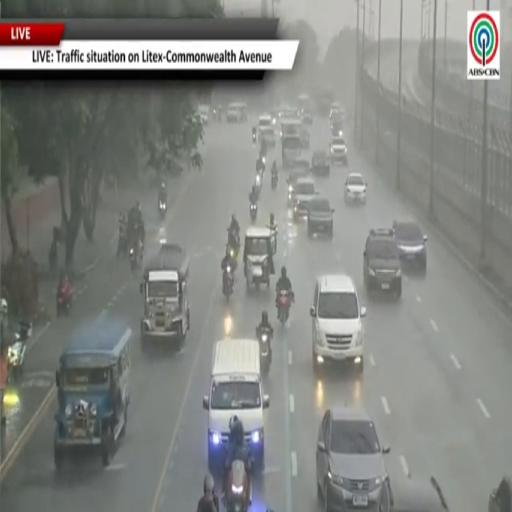car: (203, 339, 269, 469), (316, 407, 389, 511), (310, 275, 366, 372), (363, 229, 401, 298), (387, 477, 448, 511), (393, 221, 427, 270), (307, 198, 333, 239), (293, 178, 316, 221), (488, 476, 511, 511), (288, 168, 309, 206), (344, 173, 366, 203), (330, 136, 348, 165), (311, 150, 330, 175), (259, 126, 276, 148), (294, 158, 310, 173), (198, 105, 209, 125), (331, 120, 343, 136), (330, 103, 341, 120), (301, 108, 312, 124)
jeepney: (54, 315, 131, 470), (141, 244, 190, 347), (244, 228, 274, 289), (281, 120, 309, 149), (282, 134, 302, 169), (226, 103, 247, 122)
motorcycle: (8, 323, 32, 379), (226, 460, 251, 511), (258, 329, 272, 375), (277, 291, 293, 326), (57, 283, 73, 316), (228, 229, 240, 260), (129, 242, 142, 270), (48, 239, 58, 274), (223, 266, 233, 301), (117, 228, 127, 257), (269, 227, 277, 254), (224, 315, 232, 338), (255, 173, 262, 196), (159, 201, 167, 219), (256, 158, 265, 174), (250, 203, 257, 221), (271, 173, 278, 189), (252, 133, 256, 143)
